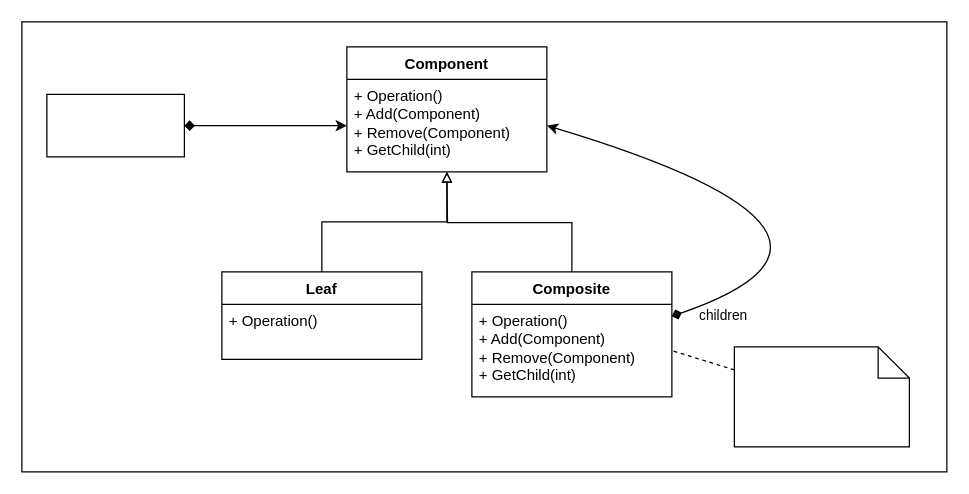
The diagram is 969 pixels wide and 494 high, and some of its shapes have lost their labels. Here are the shapes that lost their labels. From the top down, the centre of each, then its label:
(115,125): Client
(821,396): for child in children { child.Operation() }
